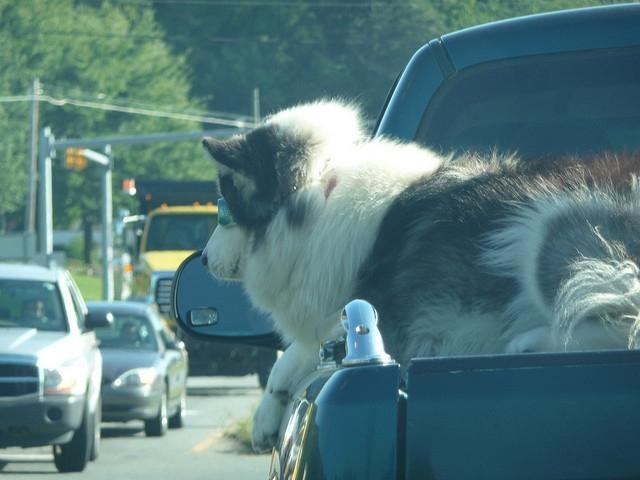car: (0, 262, 119, 472), (88, 302, 188, 440)
truck: (169, 3, 640, 480), (118, 177, 219, 327)
